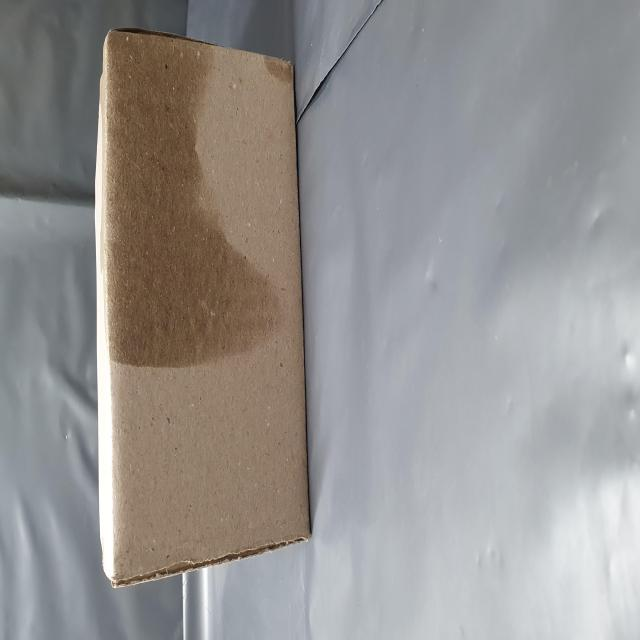wet: (139, 174, 346, 494)
